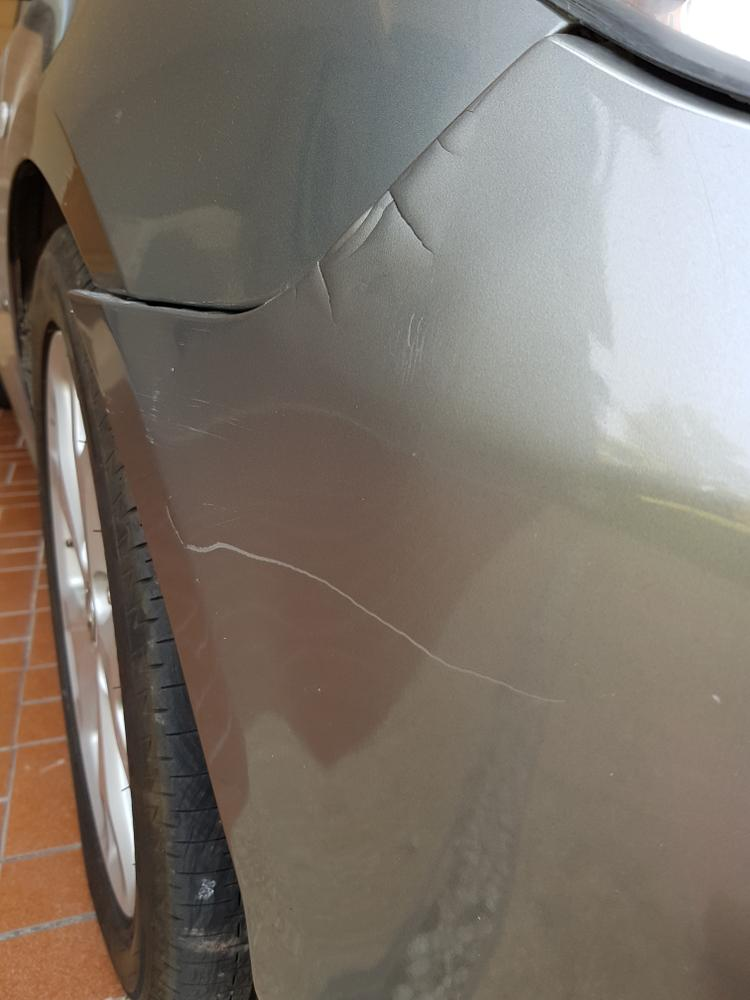scratch: (164, 501, 566, 708)
